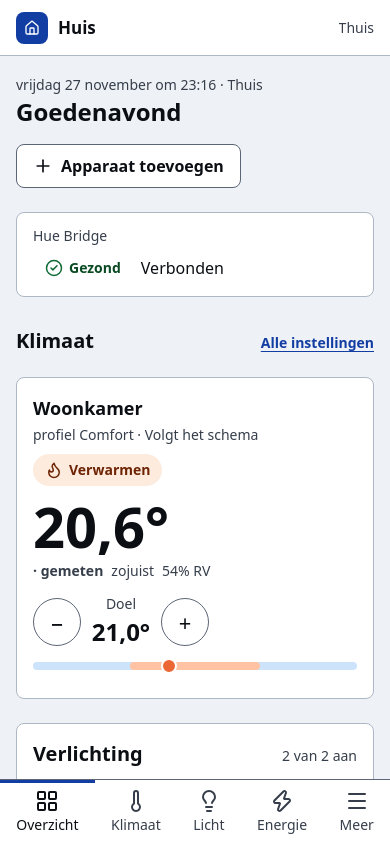
Test: shell (item 40) › Peil-toevoegingen: zijbalk en Meer-sheet tonen "Terug naar de Hub" (alleen met een geldig adres) en de themakeuze
Step 1. Click the button "Meer" → (357, 812), box [323, 780, 389, 843]
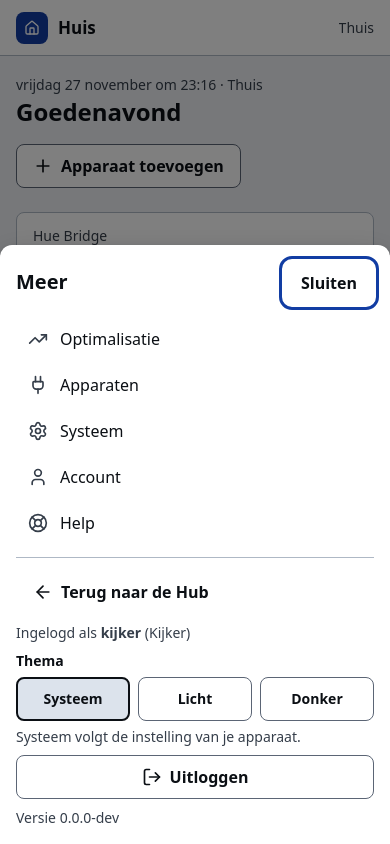
Expected: the buttons read "Systeem", "Licht", "Donker", in this order, [16, 677, 130, 721]; [138, 677, 252, 721]; [260, 677, 374, 721]
